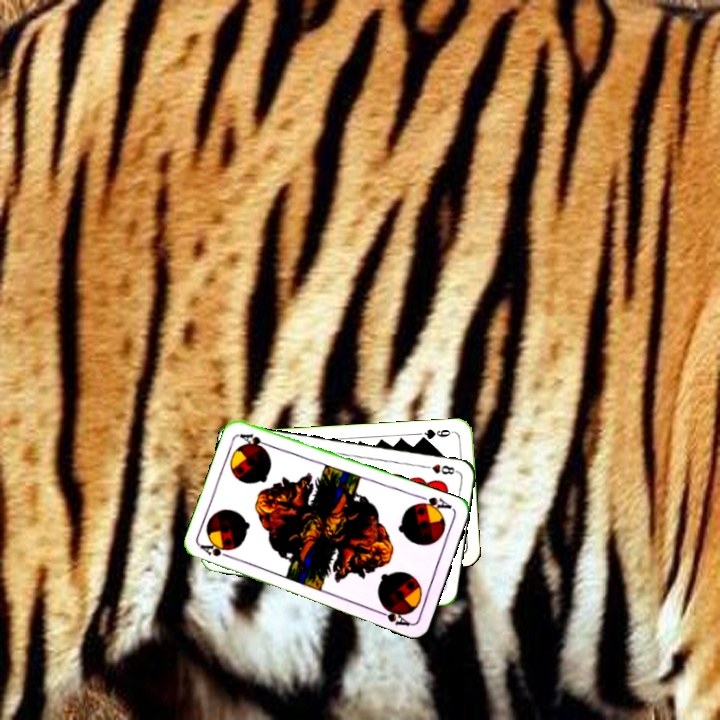G9: (417, 425, 457, 443)
H8: (419, 460, 460, 477)
SA: (413, 491, 454, 515), (197, 541, 236, 562)
